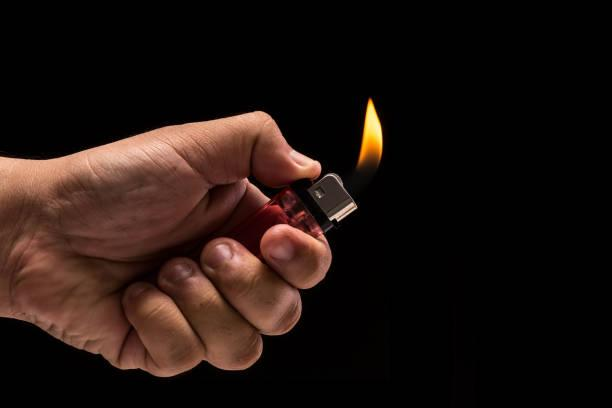Fire: (352, 100, 386, 189)
